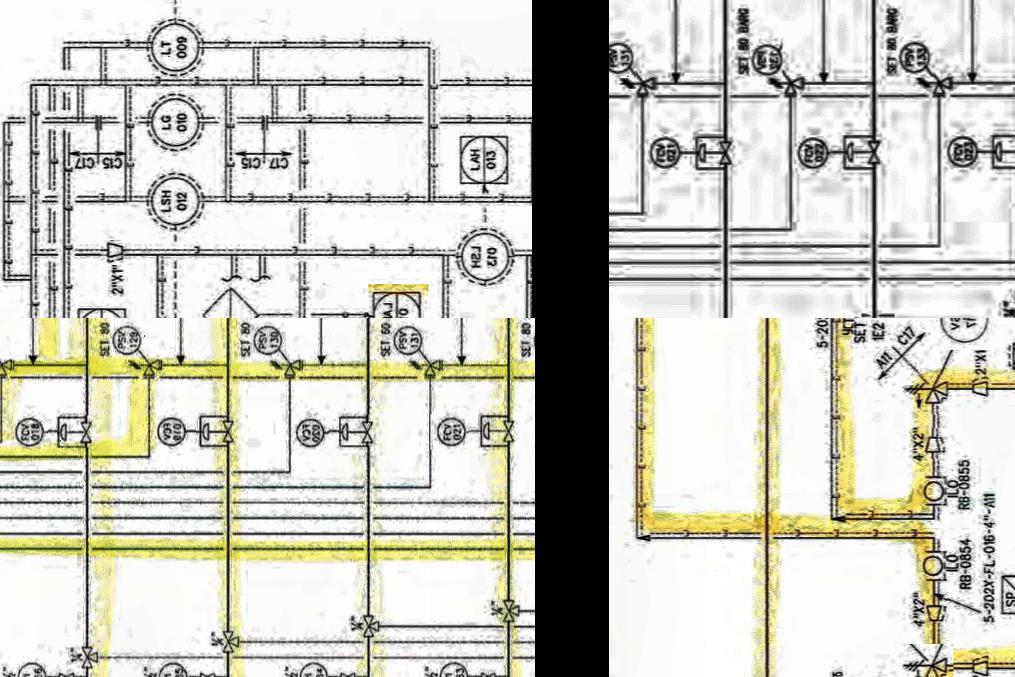2 WAY VALVE: (1005, 336, 1015, 382)
3 WAY BALL VALVE: (219, 624, 247, 657), (498, 595, 523, 626), (358, 610, 382, 640), (77, 640, 100, 668)
3 WAY GENERAL VALVE: (861, 311, 894, 318)
ANGLE RELIEF VALVE: (899, 642, 955, 677), (614, 71, 667, 99), (122, 353, 170, 380), (913, 70, 959, 96), (768, 68, 808, 97), (262, 355, 312, 378), (411, 351, 450, 379), (0, 358, 24, 380)
CONCENTRIC REDUCER: (916, 426, 952, 458), (918, 594, 948, 628), (962, 655, 996, 677), (101, 238, 127, 264)
DCS ACCESSIBLE: (453, 127, 514, 188), (368, 282, 428, 318), (992, 563, 1015, 618), (72, 298, 131, 318)
DIAPHRAGM ACTUATED VALVE: (900, 373, 961, 412), (340, 412, 389, 444), (696, 133, 740, 166), (842, 135, 887, 167), (58, 414, 102, 446), (197, 417, 249, 443), (481, 413, 523, 443), (993, 133, 1015, 164)
END FLANGED: (90, 113, 108, 130)
FIELD INSTRUMENT: (148, 10, 212, 76), (145, 91, 208, 156), (142, 166, 202, 232), (456, 221, 514, 288), (934, 318, 996, 348), (248, 321, 290, 358), (896, 36, 935, 74), (13, 410, 49, 450), (430, 412, 470, 448), (796, 132, 832, 170), (152, 412, 188, 449), (647, 132, 682, 170), (294, 412, 330, 448), (749, 38, 783, 74), (948, 130, 980, 166), (393, 322, 424, 358), (609, 35, 636, 76), (112, 322, 146, 354), (918, 473, 948, 508), (918, 551, 954, 577), (16, 656, 52, 677), (297, 658, 331, 677), (436, 661, 474, 677), (157, 660, 190, 677)
GATE VALVE: (334, 664, 361, 677), (193, 666, 221, 677), (478, 666, 501, 677), (53, 667, 77, 677)
HARDWIRED INTERLOCK PRIMARY.: (202, 282, 260, 318)
